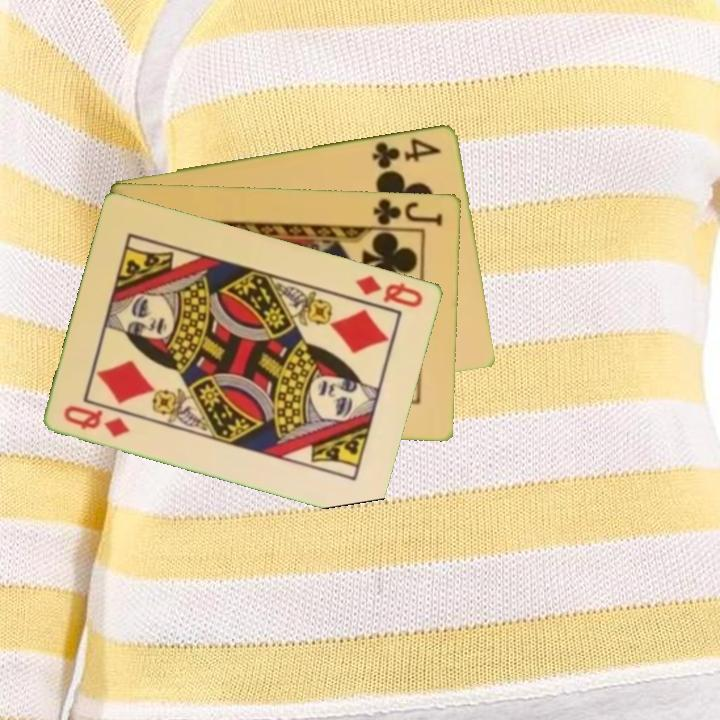4c: (369, 134, 444, 172)
Jc: (366, 195, 446, 229)
Qd: (352, 271, 426, 310), (60, 401, 133, 440)
